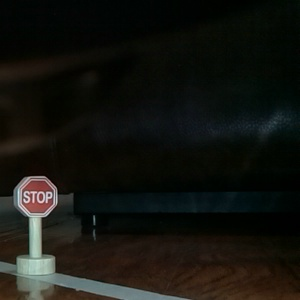stop sign: (11, 173, 59, 276)
